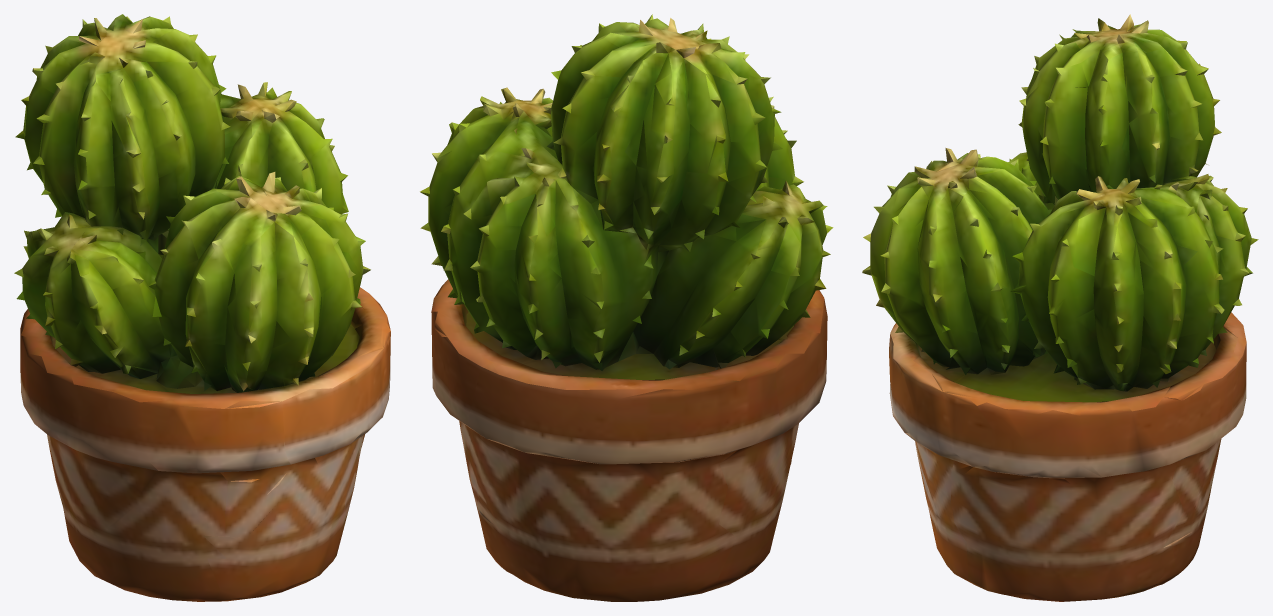
Rendered from plant10.glb.
3 views of the same model, side by side, from view 1: azimuth 30°, elevation 25°; view 2: azimuth 150°, elevation 25°; view 3: azimuth 270°, elevation 25° (orthographic). The views are drawn at different scales.
Bounding box in the file's own units: 0.1813 × 0.2679 × 0.1928.
Materials: 1 (1 with a texture image).
